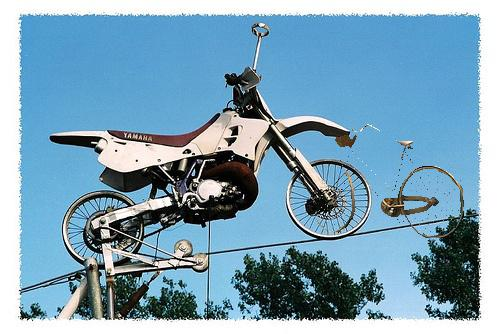tampered: (317, 125, 464, 238)
